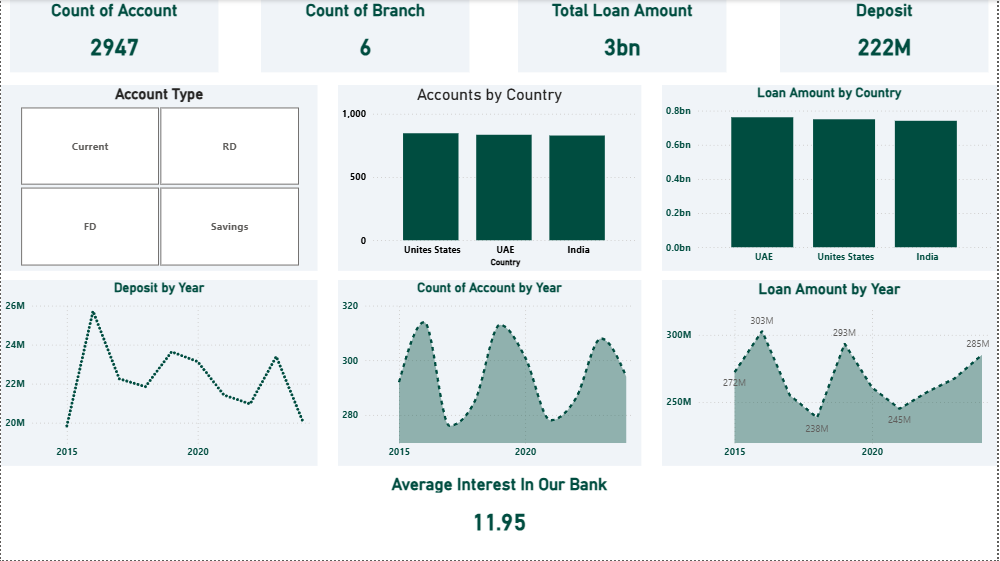

The page's visual inventory and layout, read from the dashboard file:
{"tool":"powerbi","page":{"name":"Page 1","canvas":[1280,720],"ordinal":0},"visuals":[{"type":"card","title":"Count of Account","fields":{"Values":["CountNonNull(Sheet1.Account_Id)"]},"box":[11.6,0,268.5,92.9],"z":0},{"type":"card","title":"Count of Branch","fields":{"Values":["Count(Sheet1.Branch)"]},"box":[333.8,0,268.5,92.9],"z":1000},{"type":"card","title":"Total Loan Amount","fields":{"Values":["Sum(Sheet1.Loan_Amount)"]},"box":[664.7,0,268.5,92.9],"z":2000},{"type":"card","title":"Deposit","fields":{"Values":["Sum(Sheet1.Deposit)"]},"box":[1001.4,0,268.5,92.9],"z":3000},{"type":"columnChart","title":" Accounts by Country","fields":{"Category":["Sheet1.Country"],"Y":["CountNonNull(Sheet1.Account_Id)"]},"box":[433.4,108.7,389.6,238.6],"z":4000},{"type":"slicer","title":"Account Type","fields":{"Values":["Sheet1.Account_Type"]},"box":[0,108.7,406.6,238.6],"z":5000},{"type":"clusteredColumnChart","title":" Loan Amount by Country","fields":{"Category":["Sheet1.Country"],"Y":["Sum(Sheet1.Loan_Amount)"]},"box":[849.9,108.7,430.6,238.6],"z":6000},{"type":"lineChart","title":" Deposit by Year","fields":{"Category":["Sheet1.Year"],"Y":["Sum(Sheet1.Deposit)"]},"box":[0,360,406.6,238.6],"z":7000},{"type":"lineChart","title":"Count of Account  by Year","fields":{"Category":["Sheet1.Year"],"Y":["CountNonNull(Sheet1.Account_Id)"]},"box":[433.4,360,389.6,238.6],"z":8000},{"type":"areaChart","title":" Loan Amount by Year","fields":{"Category":["Sheet1.Year"],"Y":["Sum(Sheet1.Loan_Amount)"]},"box":[849.9,360,430.6,238.6],"z":9000},{"type":"card","title":"Average Interest In Our Bank","fields":{"Values":["Avg(Sheet1.Interest_Rate)"]},"box":[11.6,609.5,1258.2,95.8],"z":10000}]}

Visuals, with their boxes in screenshot pixels (x1, y1, x2, y2), scaled from the page's 1280x720 canvas onto the 1000x561 screenshot:
"Count of Account" card: select_region(9, 0, 219, 72)
"Count of Branch" card: select_region(261, 0, 471, 72)
"Total Loan Amount" card: select_region(519, 0, 729, 72)
"Deposit" card: select_region(782, 0, 992, 72)
" Accounts by Country" columnChart: select_region(339, 85, 643, 271)
"Account Type" slicer: select_region(0, 85, 318, 271)
" Loan Amount by Country" clusteredColumnChart: select_region(664, 85, 999, 271)
" Deposit by Year" lineChart: select_region(0, 280, 318, 466)
"Count of Account  by Year" lineChart: select_region(339, 280, 643, 466)
" Loan Amount by Year" areaChart: select_region(664, 280, 999, 466)
"Average Interest In Our Bank" card: select_region(9, 475, 992, 550)
